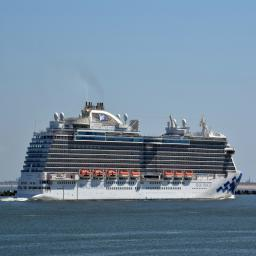cruises: (13, 99, 244, 207)
